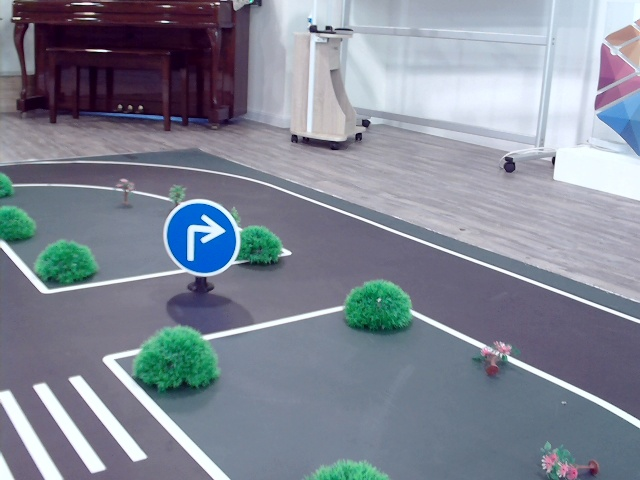turn_right: (182, 213, 223, 259)
